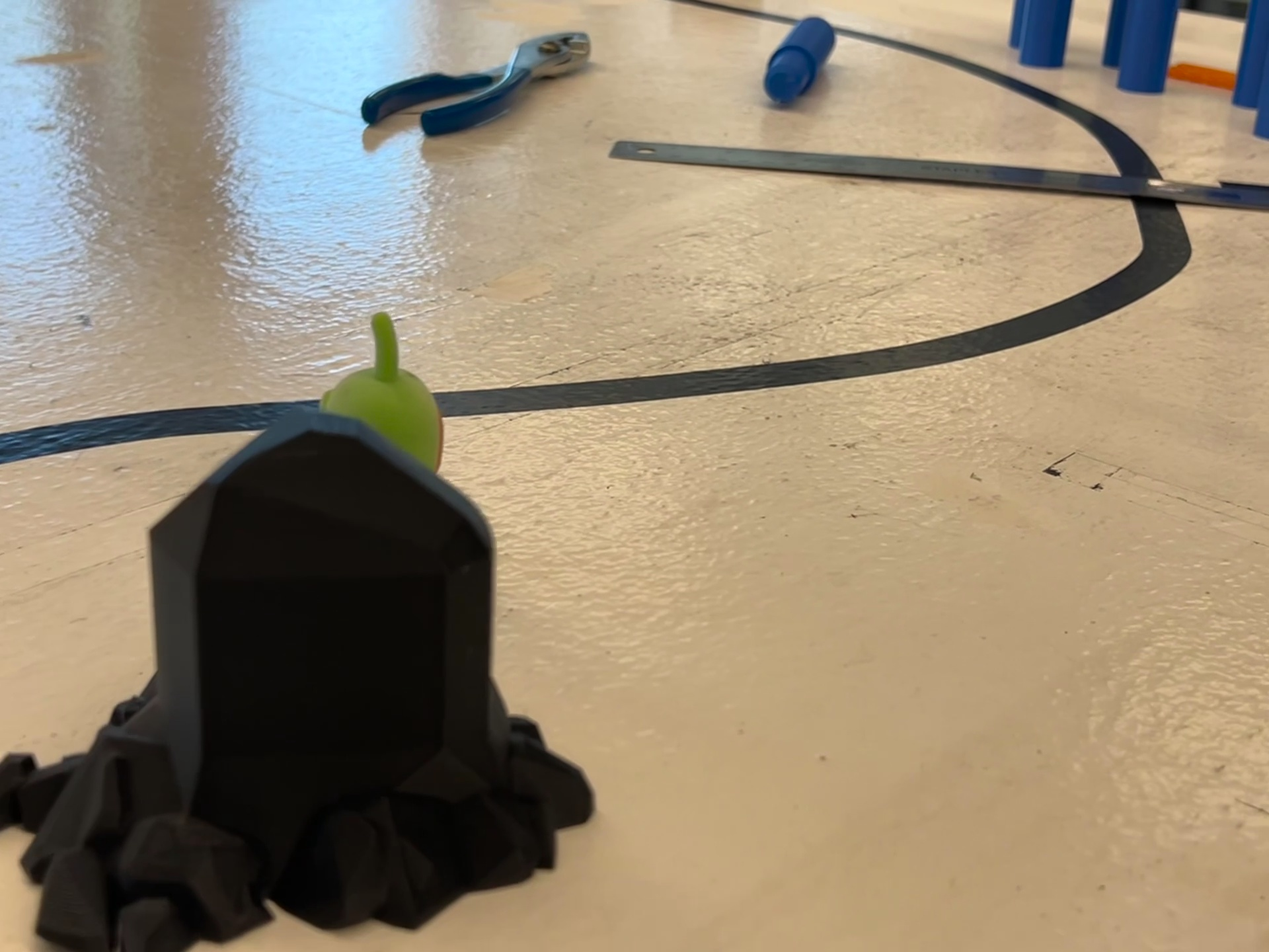teletubby: (320, 313, 443, 471)
